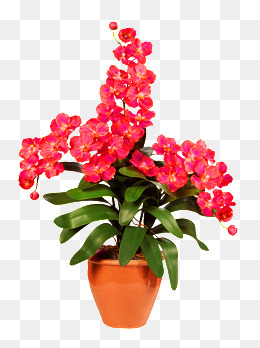tire: (87, 245, 165, 330)
